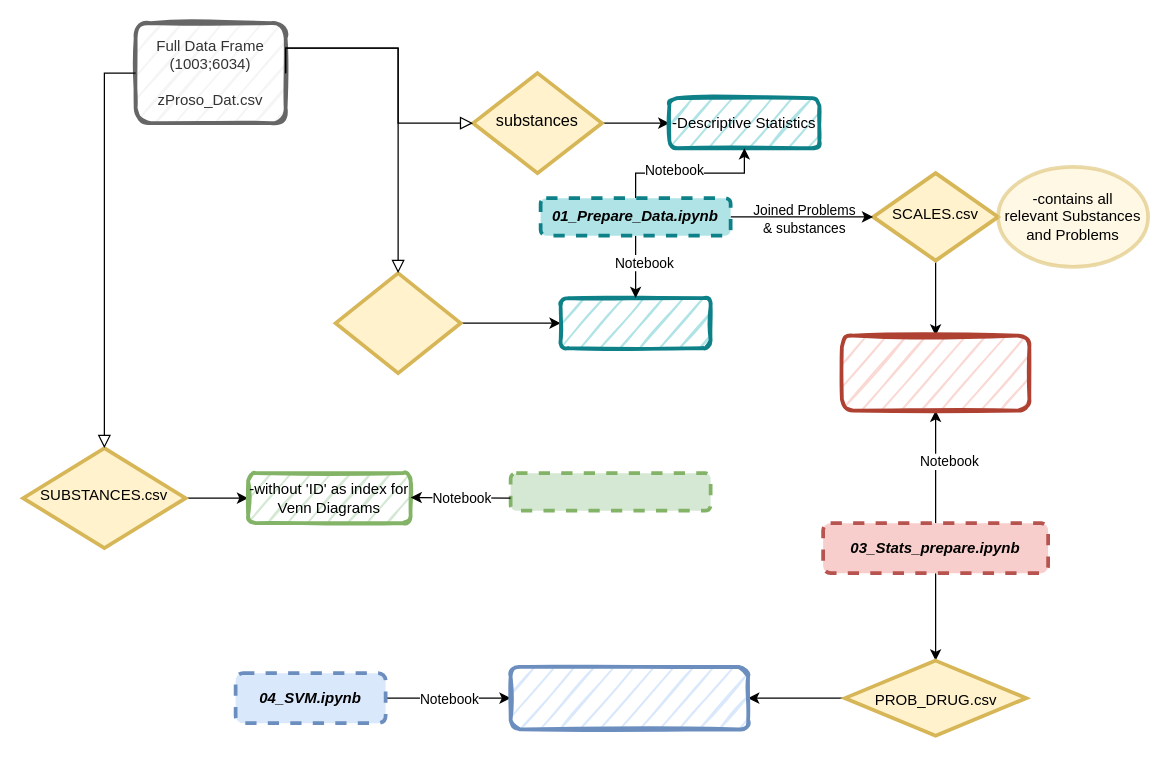
This 1171x759 diagram has some shape labels left out. The shapes that lost their labels are listed below. From the top down, each one's centre as x and y in pixels, then its label:
point 397,322: Problems
point 635,322: - Interpolation of missing values
point 935,372: - making user groups -extraction of relevant Variables for SVM
point 610,491: 02_Venn_Diagrams.ipynb
point 628,697: SVM for predicting drug use from developmental problems
